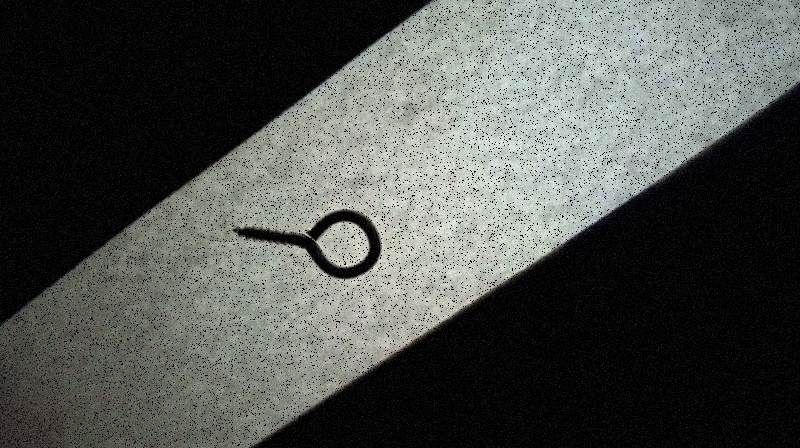O001: (230, 207, 383, 281)
